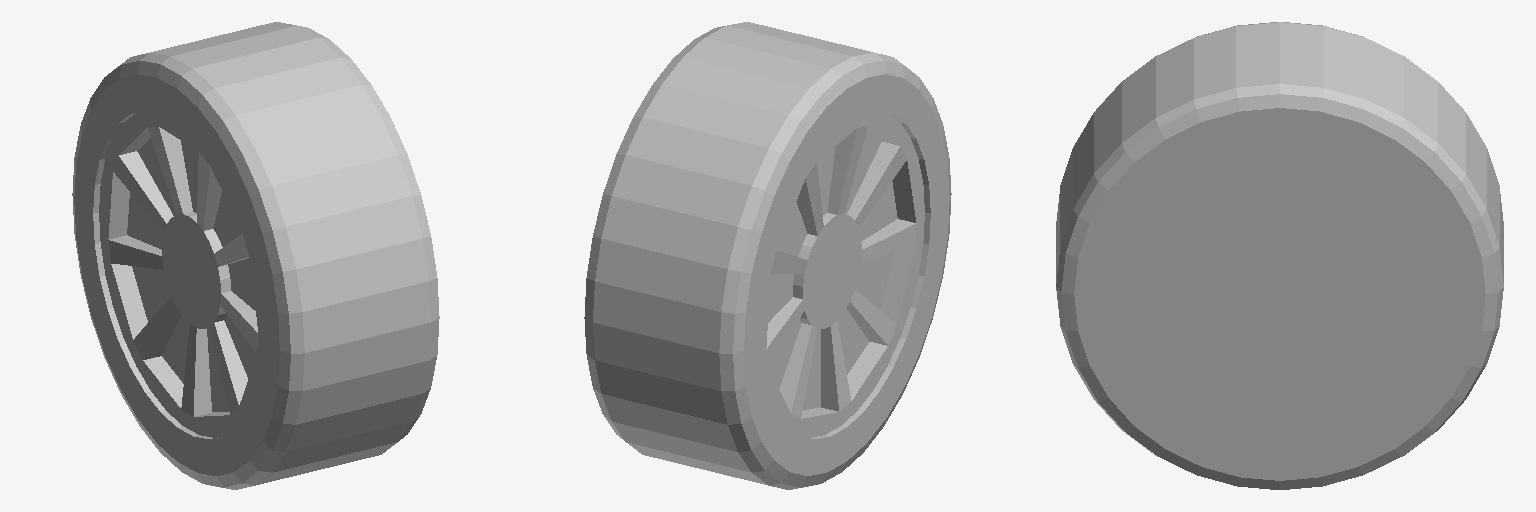
File: front_left_tire.obj
The picture shows the model from 3 angles: view 1: azimuth 30°, elevation 25°; view 2: azimuth 150°, elevation 25°; view 3: azimuth 270°, elevation 25°; orthographic projection.
Parts seen in each view (by area): view 1: Front_left_tire; view 2: Front_left_tire; view 3: Front_left_tire.
Part boxes in pixels (x1,y1,x2,y2): Front_left_tire: (72,22,439,489); Front_left_tire: (584,22,951,489); Front_left_tire: (1056,22,1503,489).
Size of the model in its own units: 0.269 by 0.6616 by 0.6616.